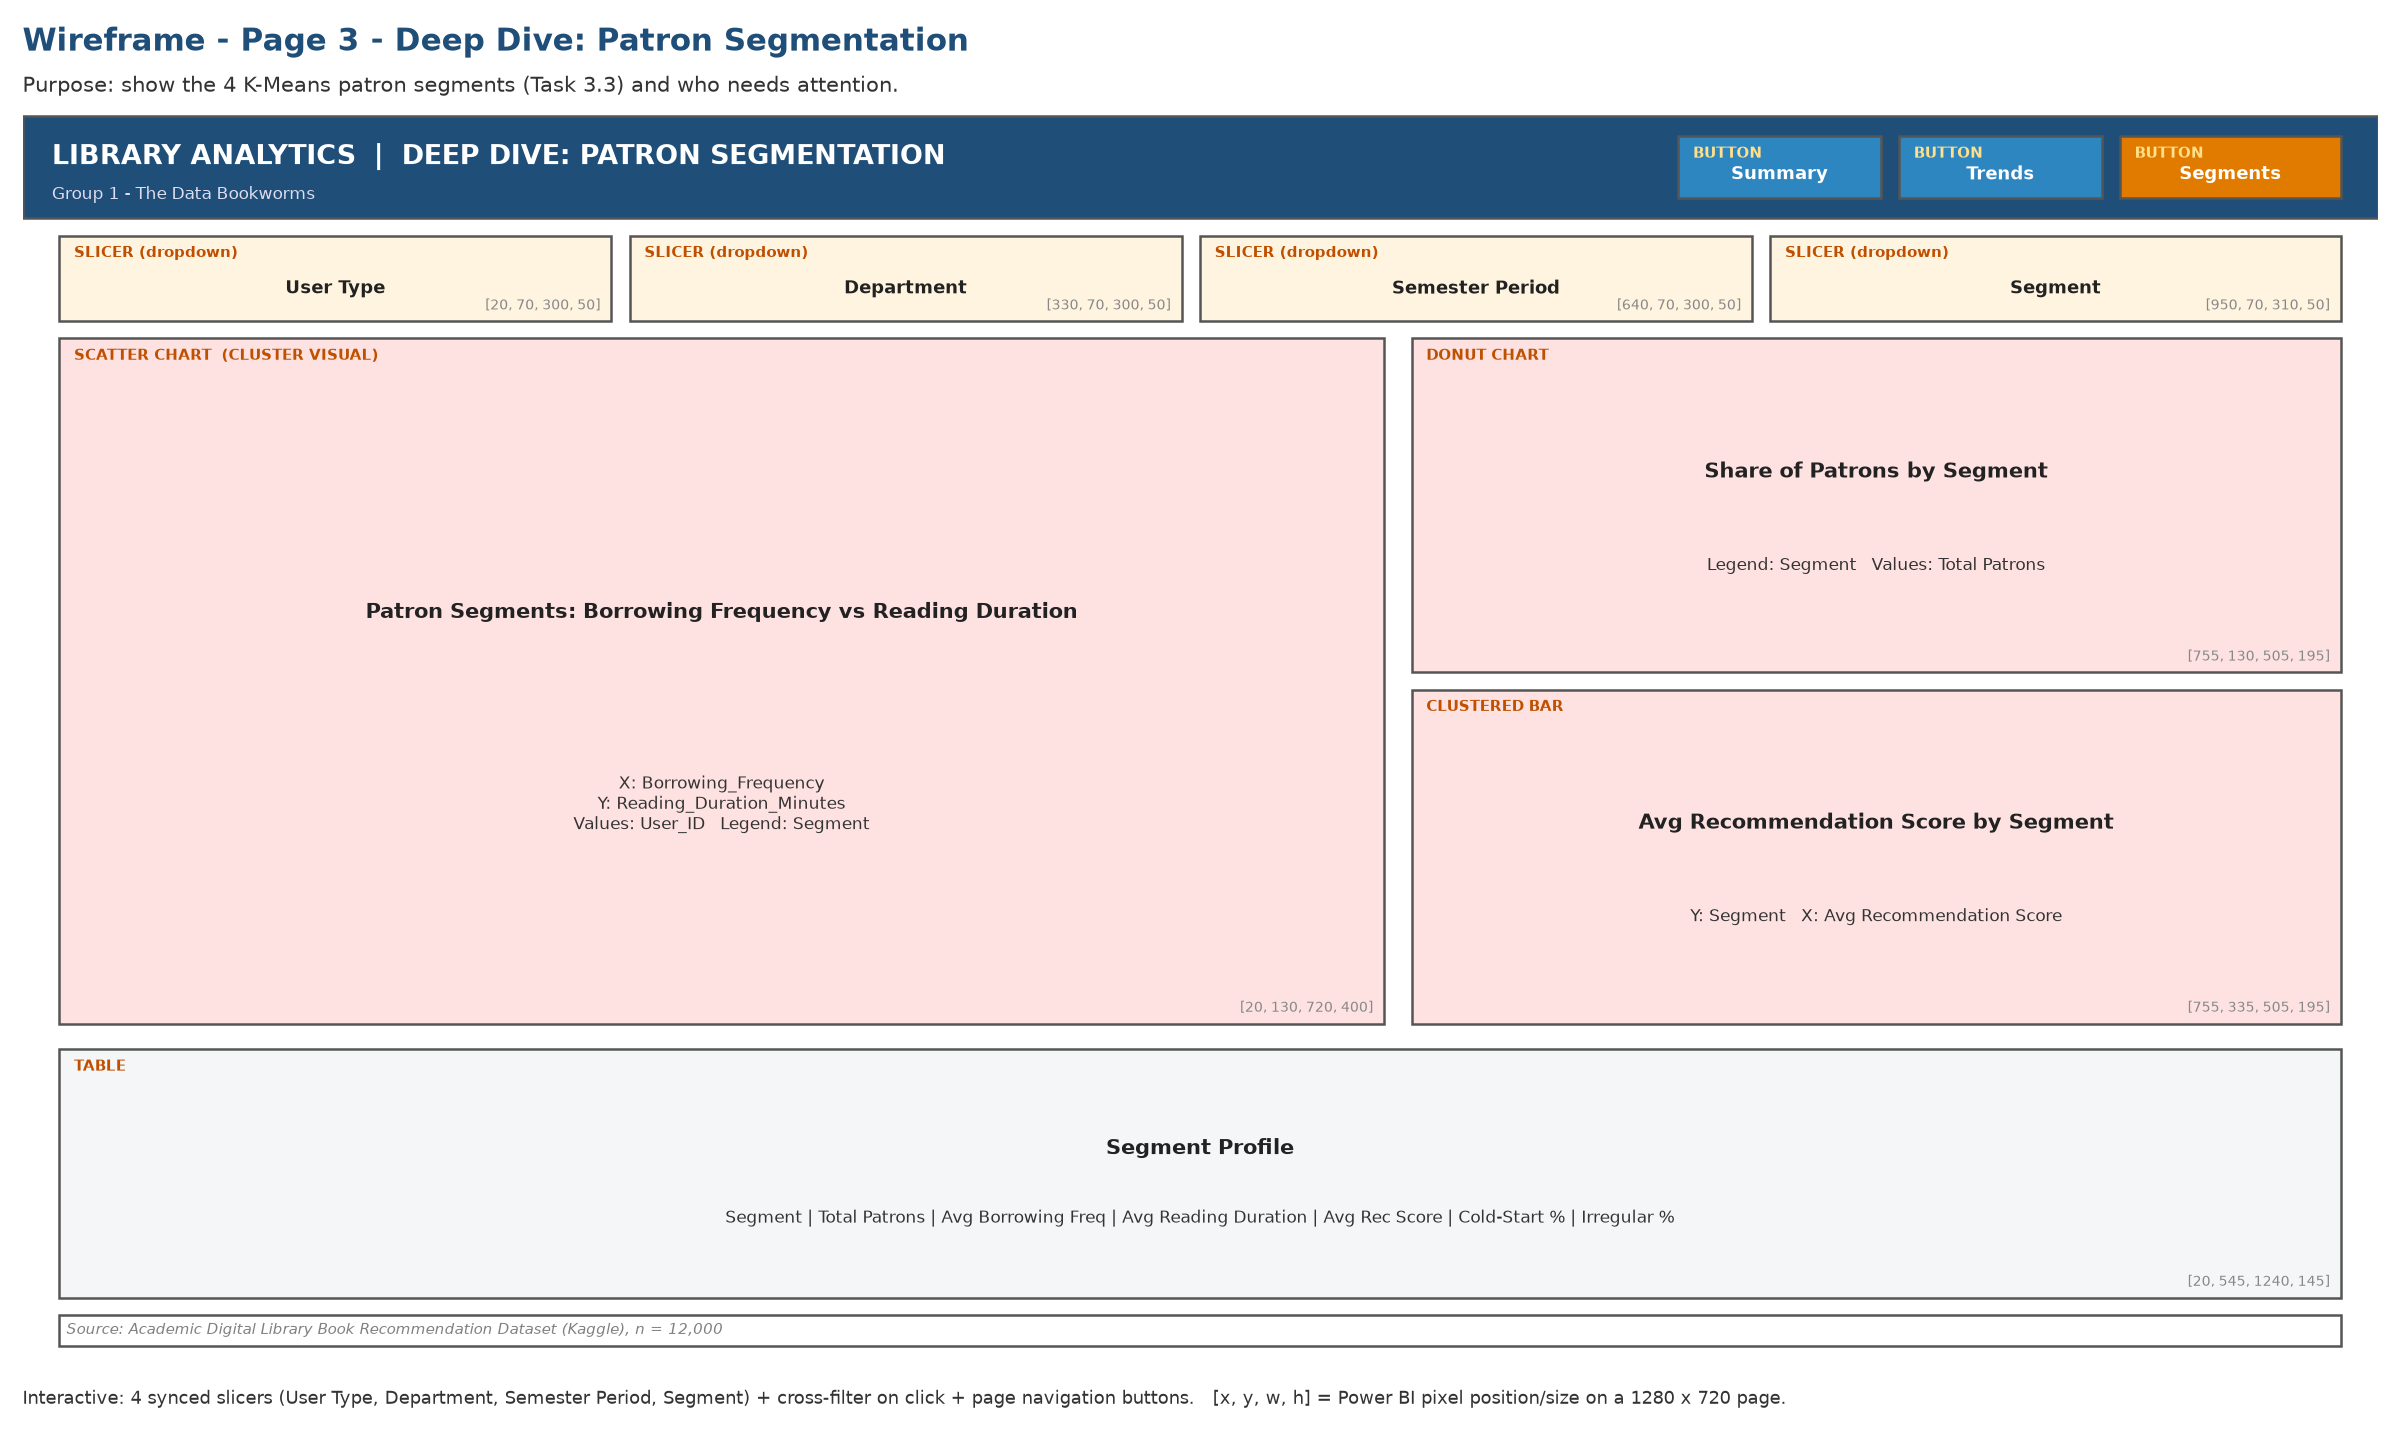

Layout of this report page (visuals, bound fields, positions):
{"tool":"powerbi","page":{"name":"Segmentation","canvas":[1280,720],"ordinal":2},"visuals":[{"type":"slicer","fields":{"Values":["Library.User_Type"]},"box":[20,70,300,60],"z":0},{"type":"slicer","fields":{"Values":["Library.Department"]},"box":[330,70,300,60],"z":1000},{"type":"slicer","fields":{"Values":["Library.Semester_Period"]},"box":[640,70,300,60],"z":2000},{"type":"slicer","fields":{"Values":["Library.Segment"]},"box":[950,70,300,60],"z":3000},{"type":"shape","box":[0,0,1280,60],"z":4000},{"type":"textbox","box":[20,2.9,860,54],"z":5000},{"type":"scatterChart","title":"Patron Segments: Borrowing Frequency vs Reading Duration","fields":{"Category":["Library.User_ID"],"Series":["Library.Segment"],"X":["Sum(Library.Borrowing_Frequency)"],"Y":["Sum(Library.Reading_Duration_Minutes)"]},"box":[20,130,720,400],"z":6000},{"type":"donutChart","title":"Share of Patrons by Segment","fields":{"Category":["Library.Segment"],"Y":["Library.Total Patrons"]},"box":[755,130,505,170],"z":7000},{"type":"clusteredBarChart","title":"Avg Recommendation Score by Segment","fields":{"Category":["Library.Segment"],"Y":["Library.Avg Recommendation Score"]},"box":[755.7,310,504.3,220],"z":8000},{"type":"tableEx","fields":{"Values":["Library.Segment","Library.Total Patrons","Avg(Library.Borrowing_Frequency)","Avg(Library.Reading_Duration_Minutes)","Library.Avg Recommendation Score","Library.Cold-Start Share","Library.Irregular Borrowing Rate"]},"box":[20,545,1240,145],"z":9000},{"type":"pageNavigator","box":[900,12,360,36],"z":9001}]}

Visuals, with their boxes in screenshot pixels (x1, y1, x2, y2):
slicer - Library.User_Type: (49, 236, 604, 347)
slicer - Library.Department: (623, 236, 1177, 347)
slicer - Library.Semester_Period: (1196, 236, 1751, 347)
slicer - Library.Segment: (1769, 236, 2324, 347)
shape: (12, 106, 2379, 217)
textbox: (49, 112, 1640, 211)
"Patron Segments: Borrowing Frequency vs Reading Duration" scatterChart: (49, 347, 1381, 1086)
"Share of Patrons by Segment" donutChart: (1409, 347, 2342, 661)
"Avg Recommendation Score by Segment" clusteredBarChart: (1410, 679, 2342, 1086)
tableEx - Library.Segment x Library.Total Patrons: (49, 1114, 2342, 1382)
pageNavigator: (1677, 128, 2342, 195)
